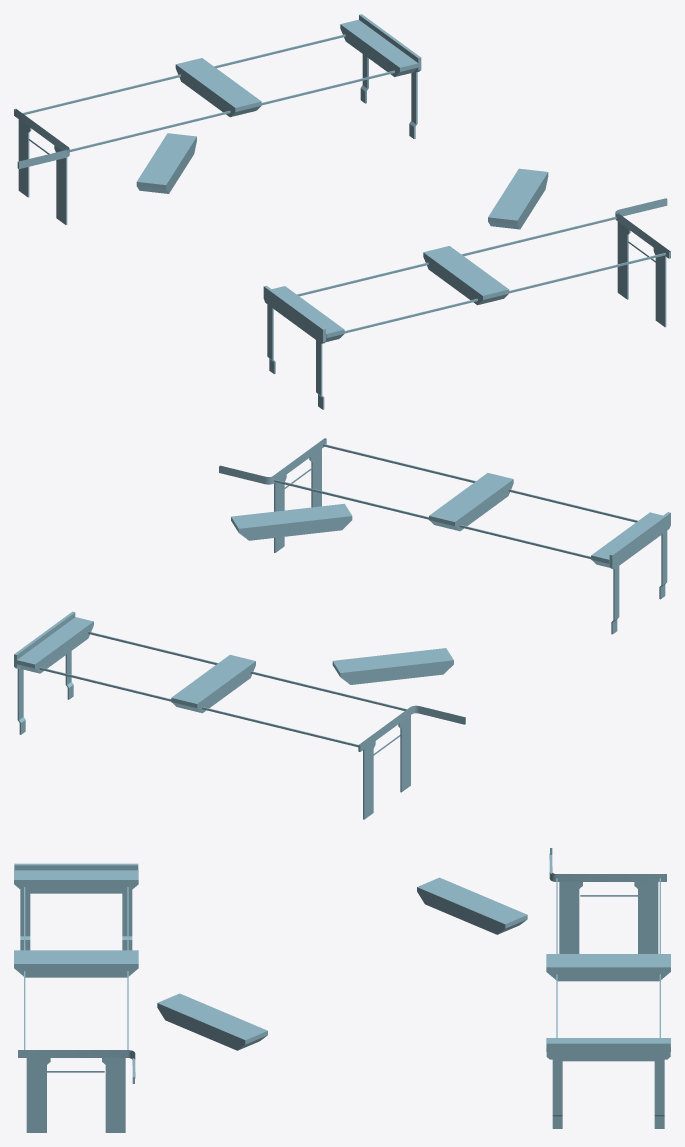
File: BC_Collider_ErCeng_3.FBX
3 renders of one model, top to bottom at view 1: azimuth 30°, elevation 25°; view 2: azimuth 150°, elevation 25°; view 3: azimuth 270°, elevation 25°, orthographic. The views are drawn at different scales.
Parts seen in each view (by area): view 1: BC_Collider_ErCeng_3; view 2: BC_Collider_ErCeng_3; view 3: BC_Collider_ErCeng_3.
Part boxes in pixels (left/top/right/bottom): BC_Collider_ErCeng_3: left=14, top=14, right=670, bottom=409; BC_Collider_ErCeng_3: left=14, top=438, right=670, bottom=819; BC_Collider_ErCeng_3: left=14, top=848, right=670, bottom=1132.
Bounding box in the file's own units: 33.95 × 6.28 × 41.16.
